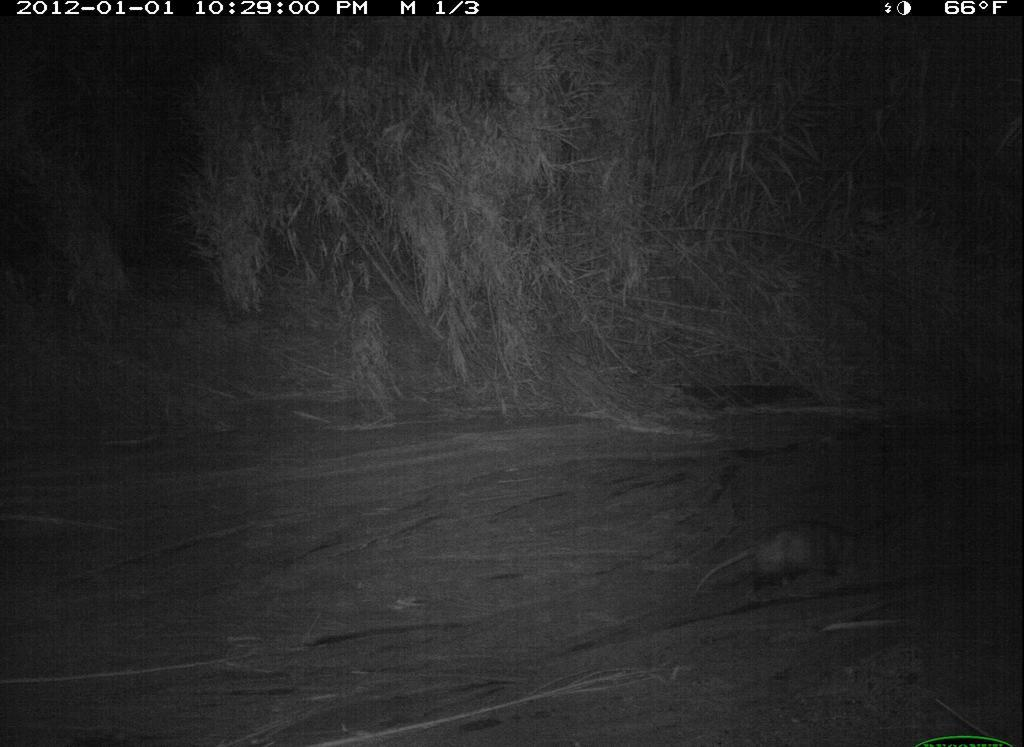opossum: (679, 511, 870, 612)
